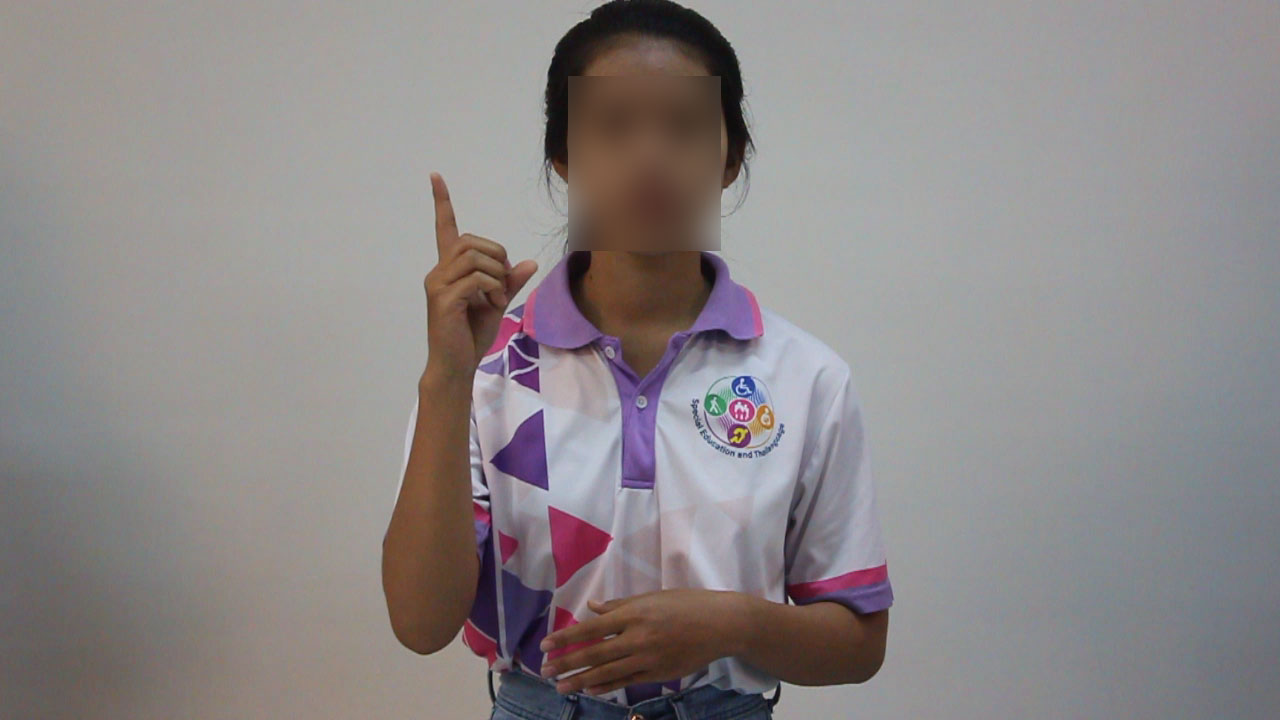dor: (411, 164, 543, 383)
